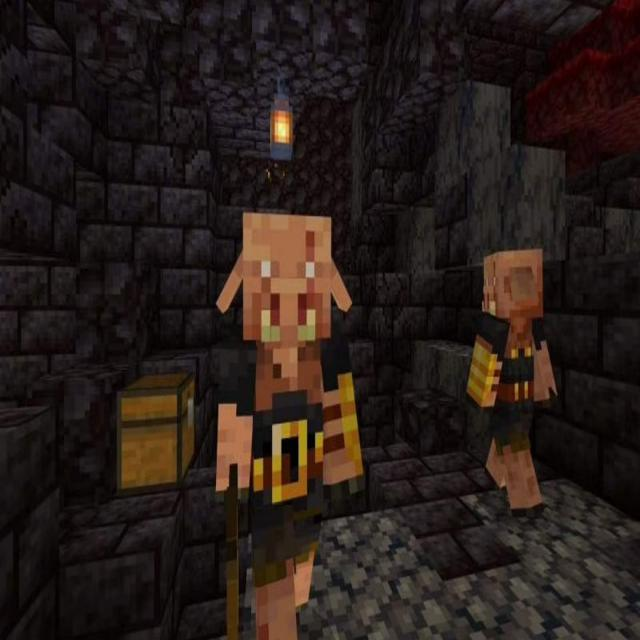Piglin: (213, 208, 363, 638), (466, 247, 560, 518)
